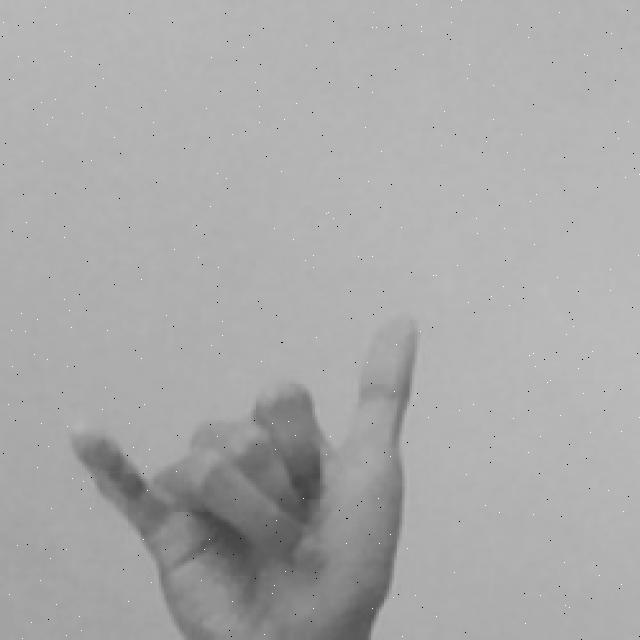Y: (65, 307, 427, 640)
